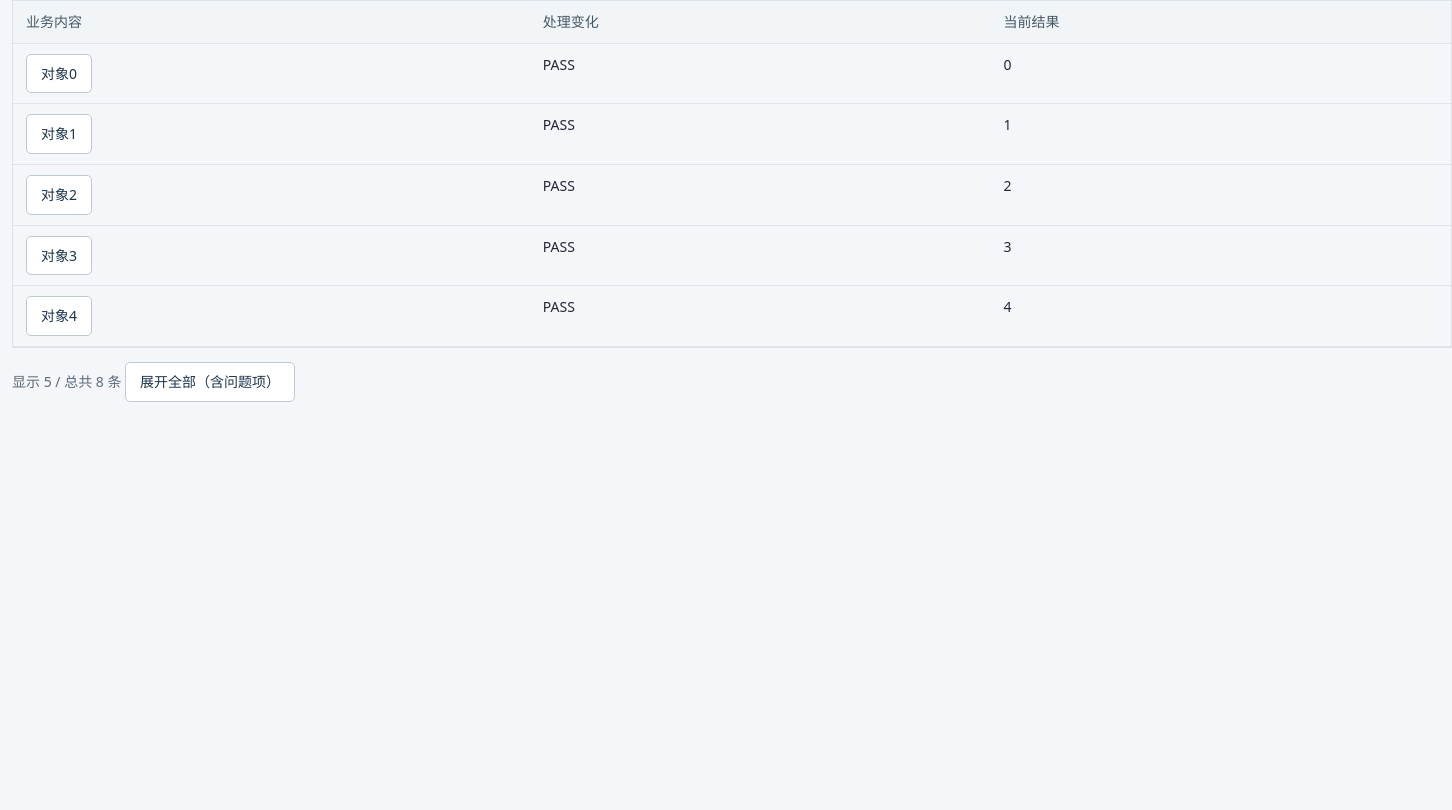
five-stage console › shows representative rows and can reveal every error item
Check: the text "显示 5 / 总共 8 条 展开全部（含问题项）" is shown, box [12,362,295,402]
Click the button "展开全部（含问题项）". click: coordinates (210, 382)
box: [125,362,295,402]
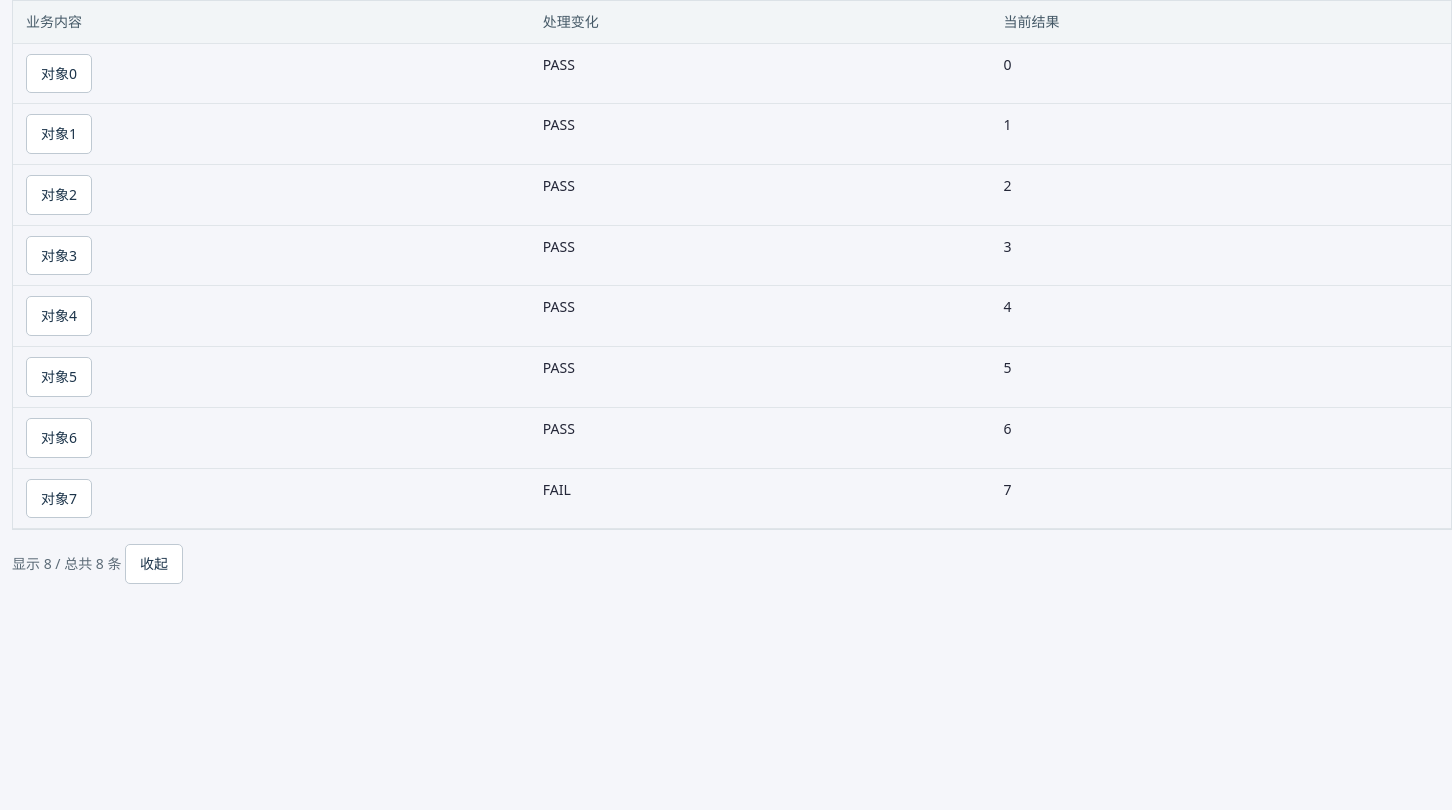
Check: the text "FAIL" is shown, box [530,468,990,529]
Check: the text "显示 8 / 总共 8 条 收起" is shown, box [12,544,183,584]
